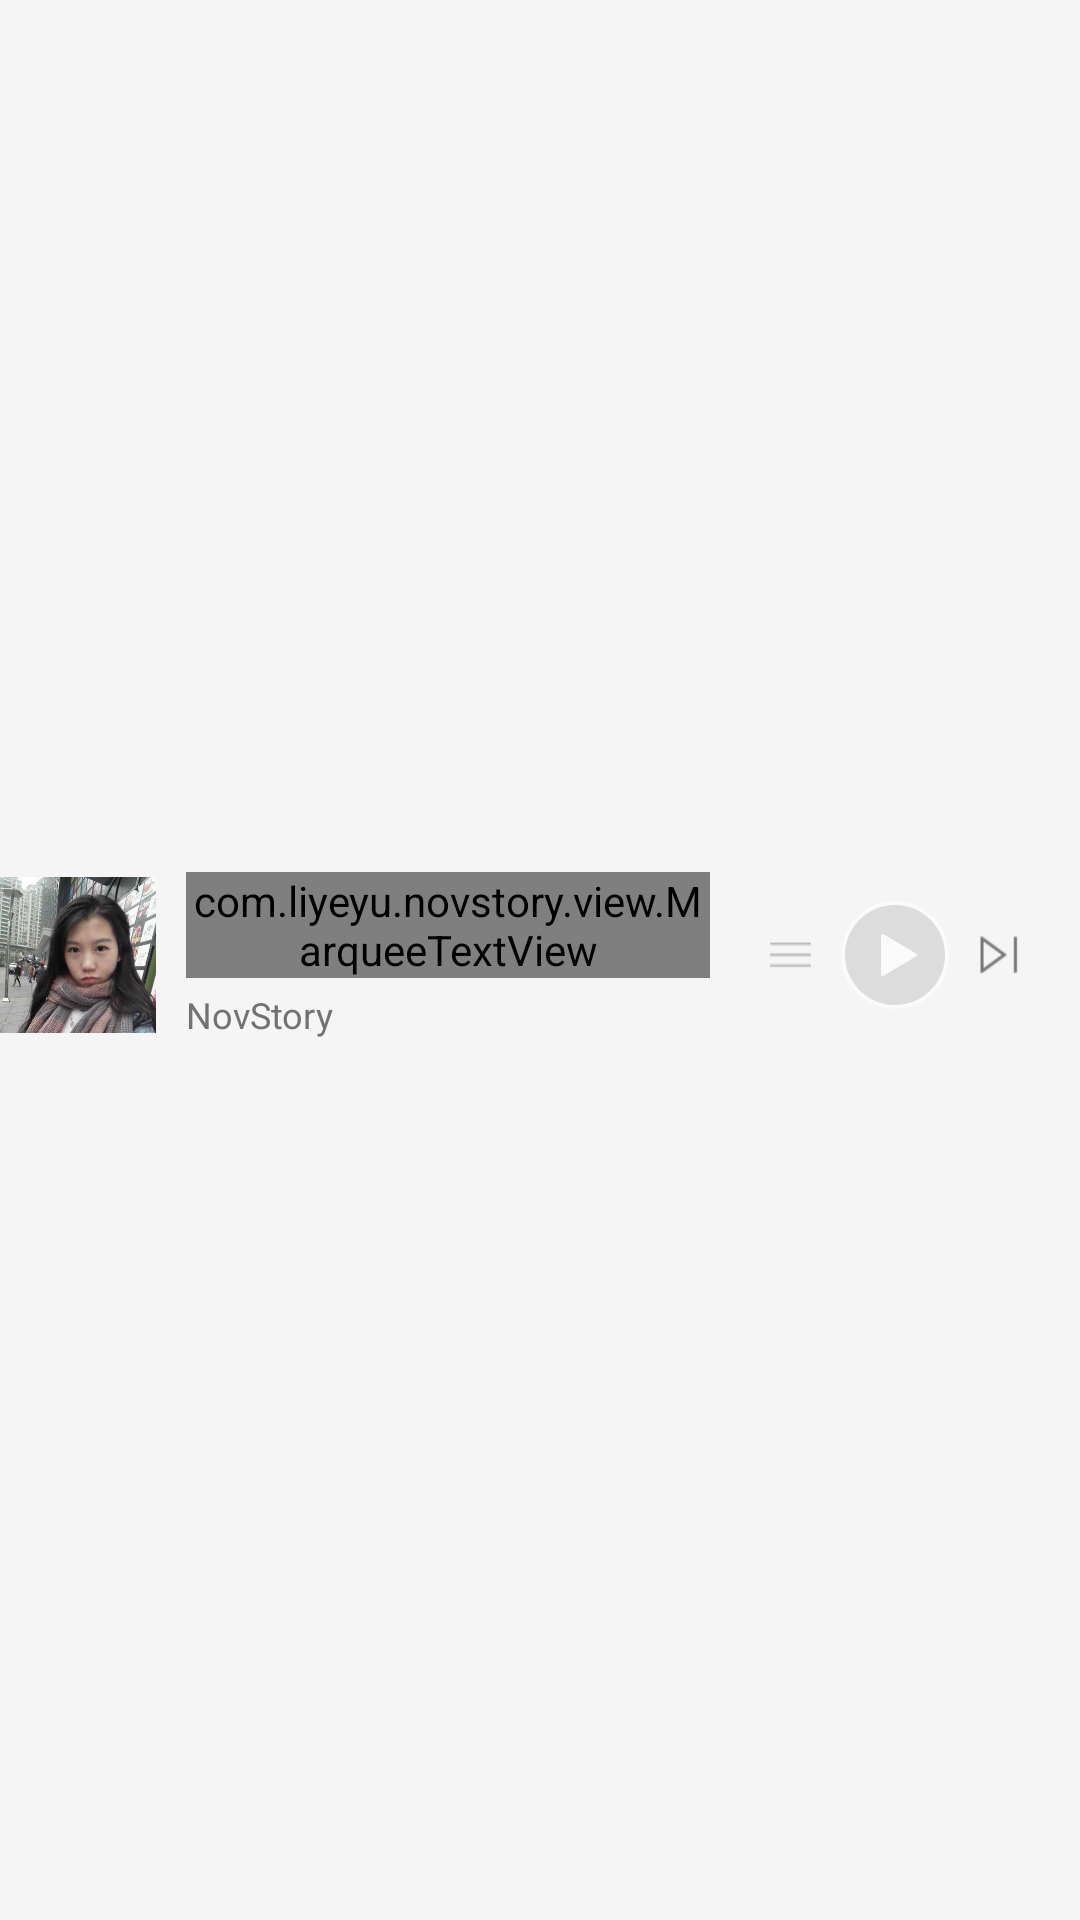

Icon click points for this 1080×1920 phone screenshot, format point (x, y):
list move: point (790, 954)
note next: point (998, 954)
play prs: point (895, 955)
